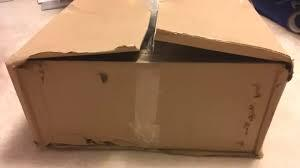damage_box: (4, 0, 293, 158)
